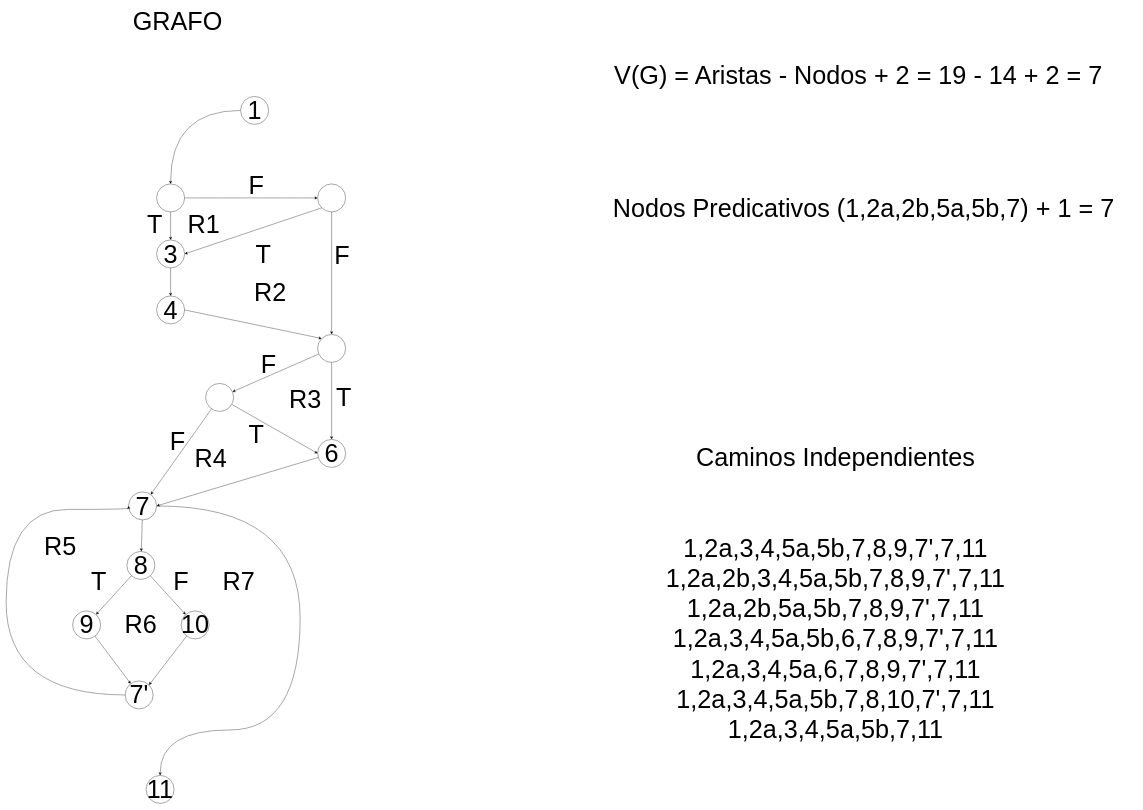
Image size: 1143x810. Some labels were removed from this diagram. Each missing label, with the centre of its shape:
"2a" goes at (170,198).
"2b" goes at (331,198).
"5a" goes at (331,348).
"5b" goes at (219,397).
